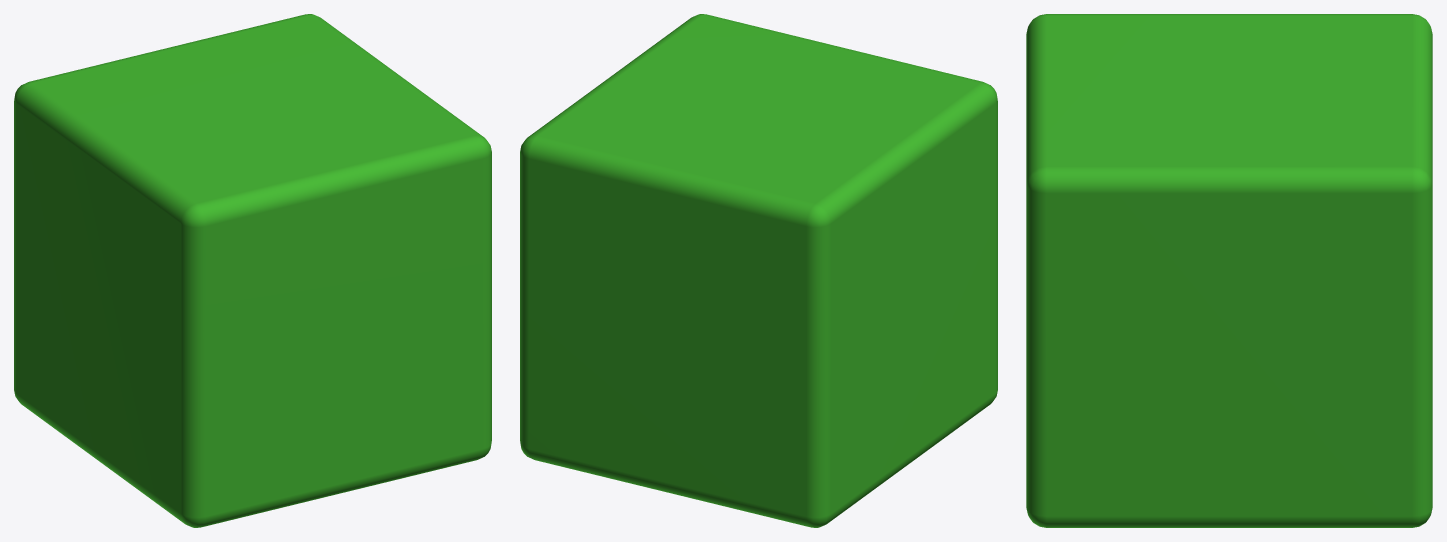
File: Square.fbx
The picture shows the model from 3 angles, left to right: view 1: azimuth 30°, elevation 25°; view 2: azimuth 150°, elevation 25°; view 3: azimuth 270°, elevation 25°; orthographic projection. The views are drawn at different scales.
Parts seen in each view (by area): view 1: SM_Square; view 2: SM_Square; view 3: SM_Square.
Part boxes in pixels (x1,y1,x2,y2): SM_Square: (14, 14, 491, 527); SM_Square: (520, 14, 997, 527); SM_Square: (1026, 14, 1432, 527).
Bounding box in the file's own units: 1.99 × 1.99 × 2.03.
